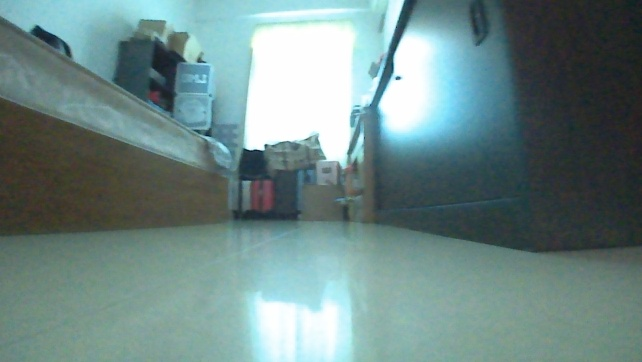bed1: (0, 14, 238, 237)
